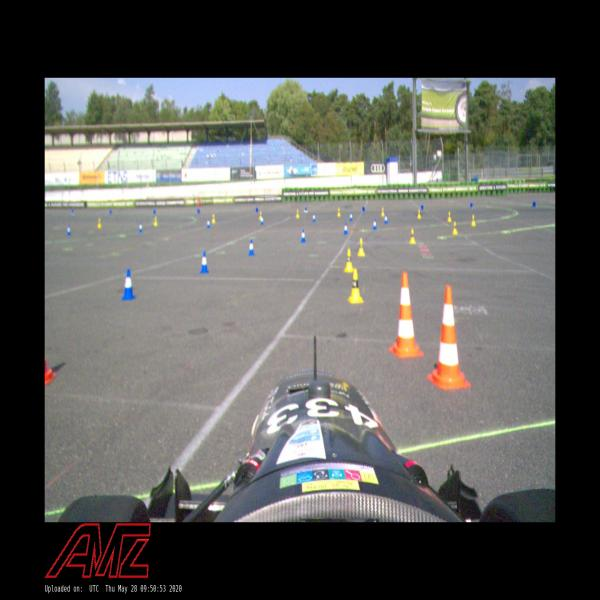blue_cone: (120, 267, 136, 300), (199, 250, 210, 274), (247, 238, 255, 257), (300, 228, 306, 244), (66, 224, 72, 235), (343, 222, 348, 235), (372, 218, 377, 230), (138, 220, 143, 232), (384, 213, 388, 224), (260, 215, 264, 226), (349, 212, 353, 222), (312, 212, 316, 222), (206, 218, 210, 228)
large_orange_cone: (426, 284, 471, 389), (389, 270, 424, 358)
yellow_cone: (348, 267, 364, 305), (344, 248, 354, 272), (357, 237, 366, 258), (409, 228, 416, 245), (452, 221, 458, 236), (471, 214, 476, 227), (447, 210, 452, 222), (97, 217, 102, 228), (153, 216, 158, 226), (417, 208, 421, 219), (212, 213, 216, 224), (381, 207, 385, 217), (337, 207, 341, 217), (296, 209, 299, 219), (259, 211, 262, 221)
